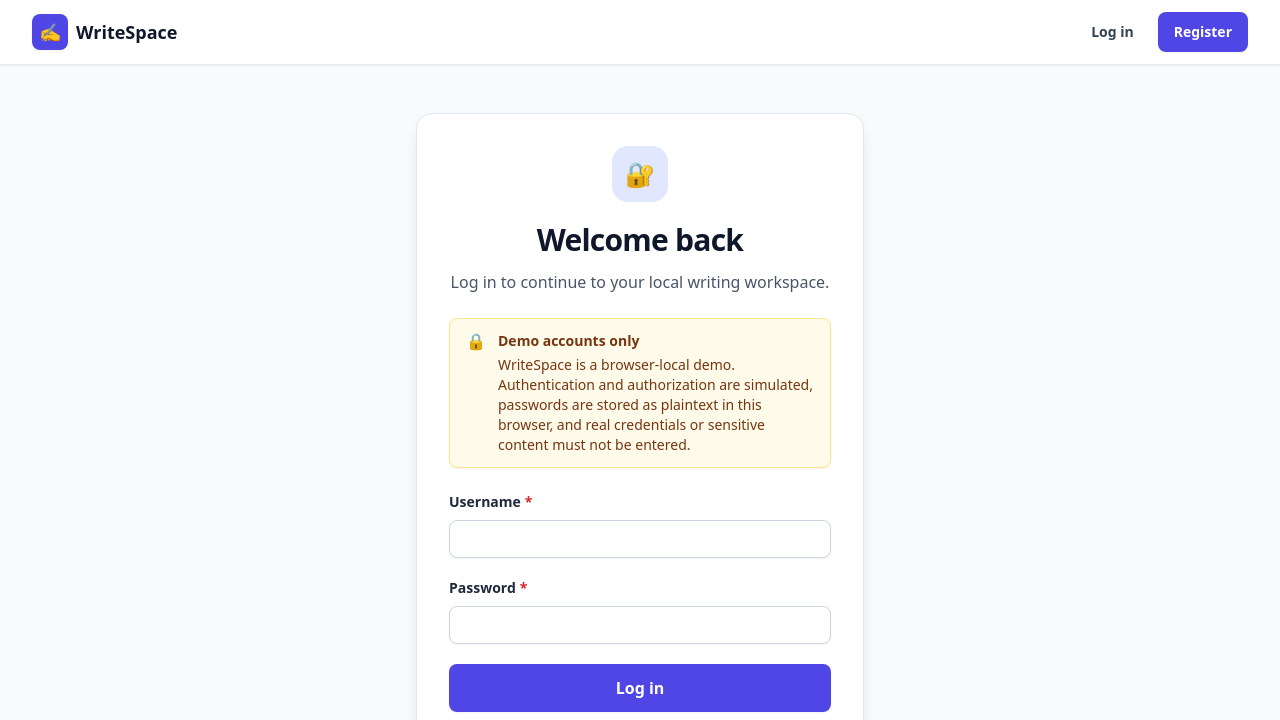
it: Authentication pages › LoginPage › shows the exact invalid-credentials failure and preserves the entered values
The width and height of the screenshot is (1280, 720).
Type "unknown_user" into the field labelled "Username*". click: {"x": 640, "y": 539}
box: [449, 520, 831, 558]
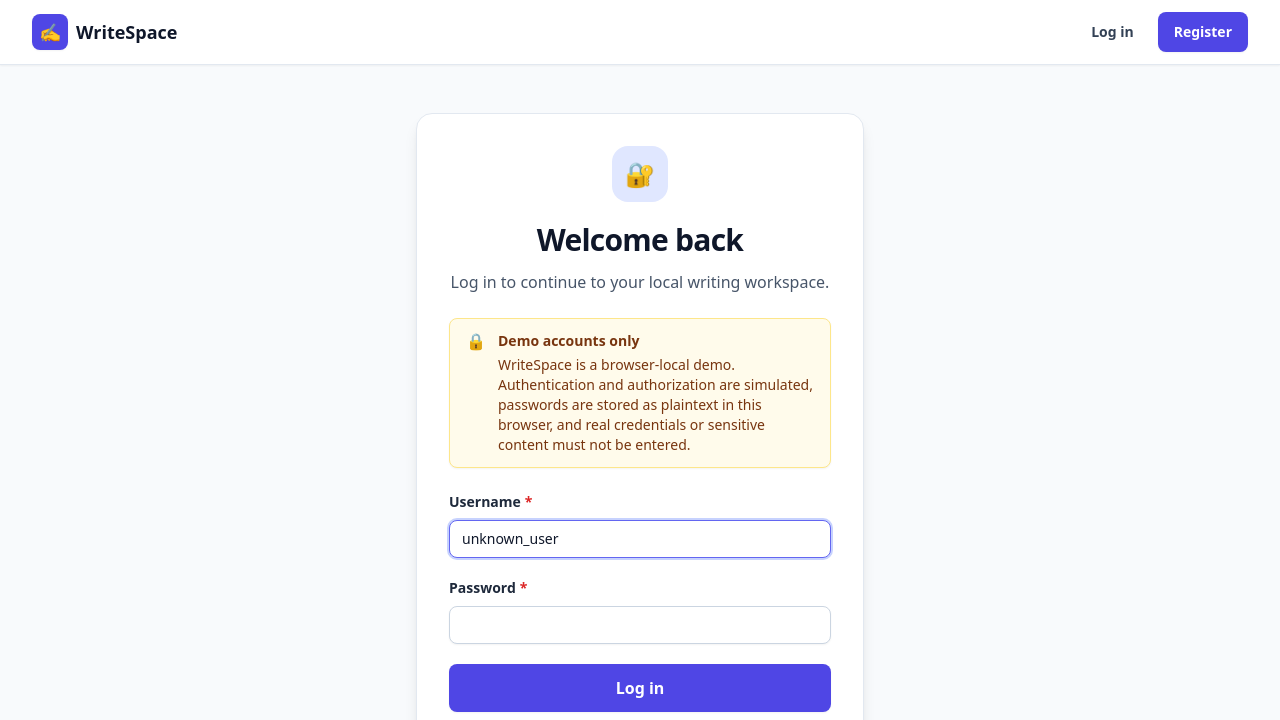
Type "wrong-password" into the password field labelled "Password*". click: {"x": 640, "y": 625}
box: [449, 606, 831, 644]
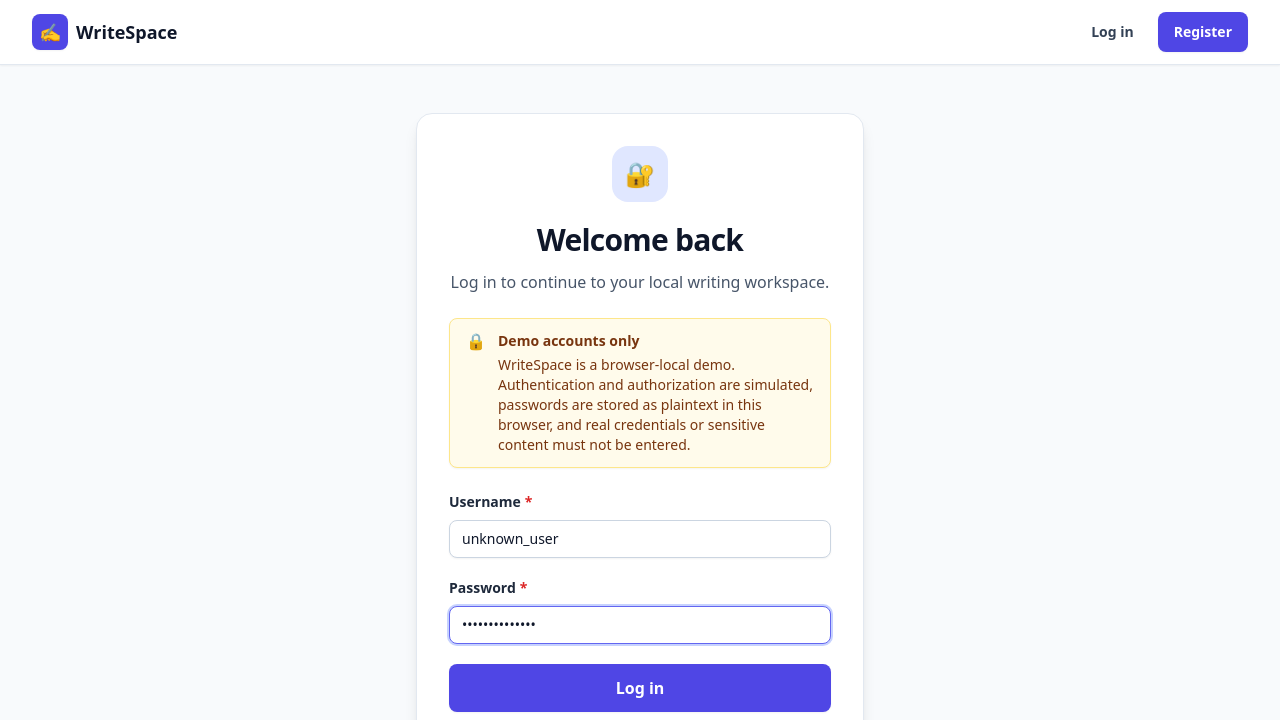
Click the button "Log in". click: {"x": 640, "y": 688}
box: [449, 664, 831, 712]
(page scrolled)
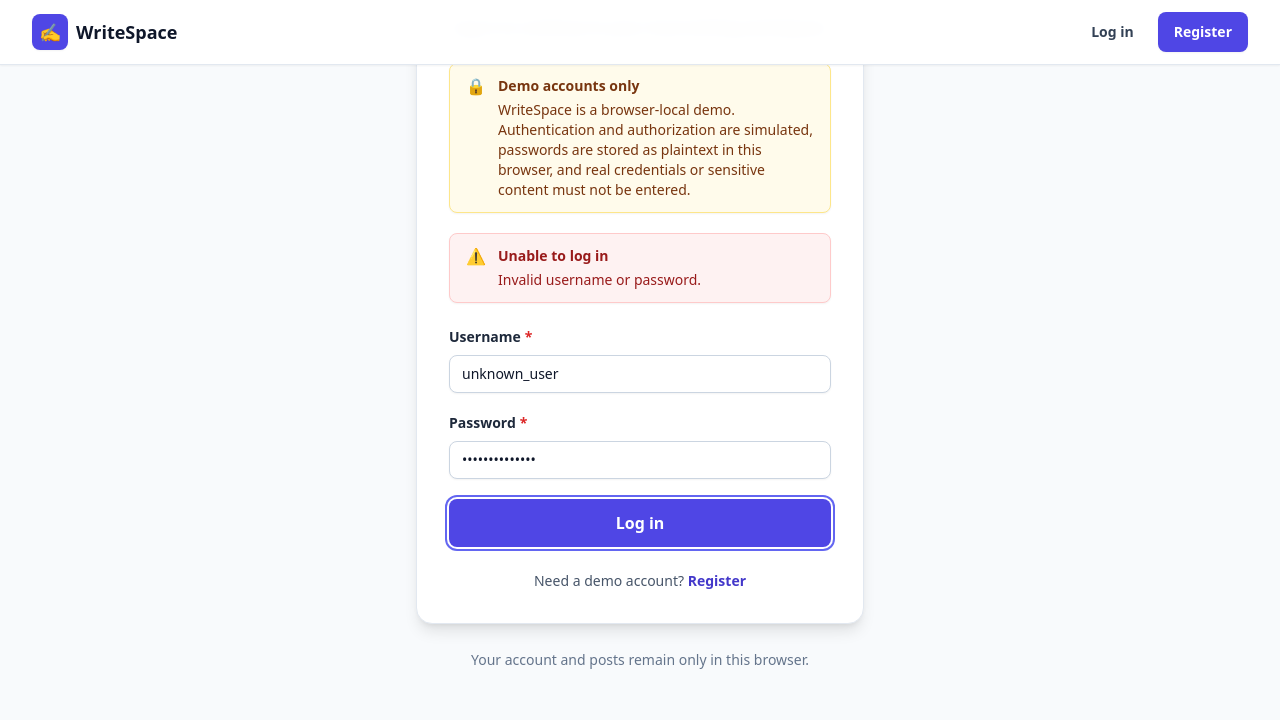
Check: the text "Invalid username or password." is shown, box [498, 270, 701, 290]
